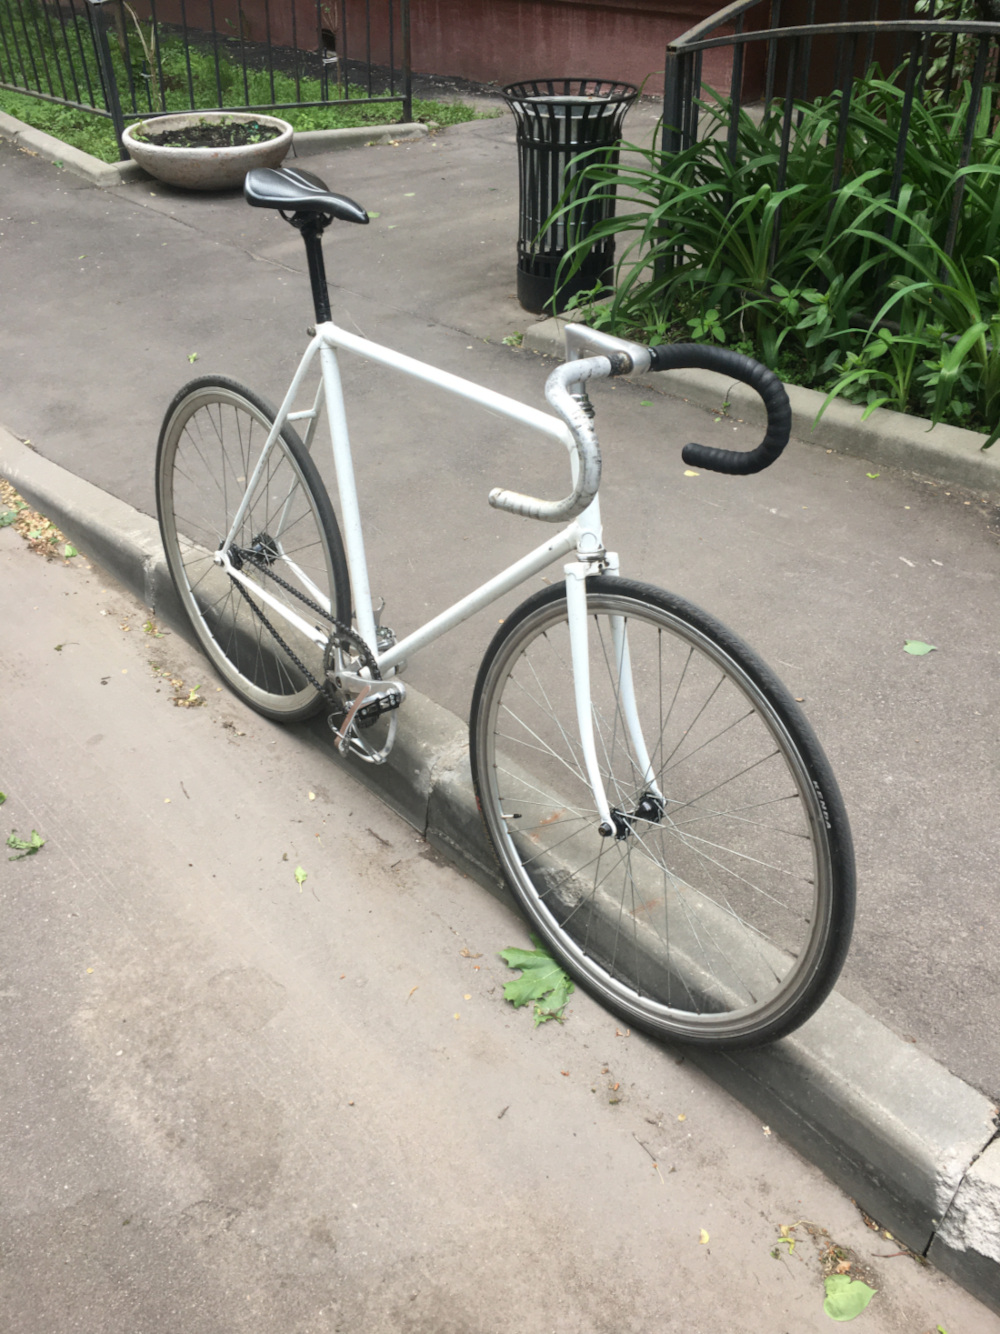bicycle: (152, 160, 858, 1058)
